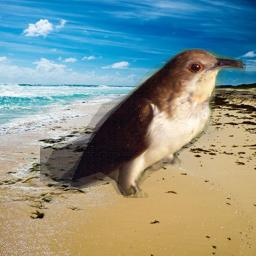Cuckoo: (40, 48, 246, 198)
